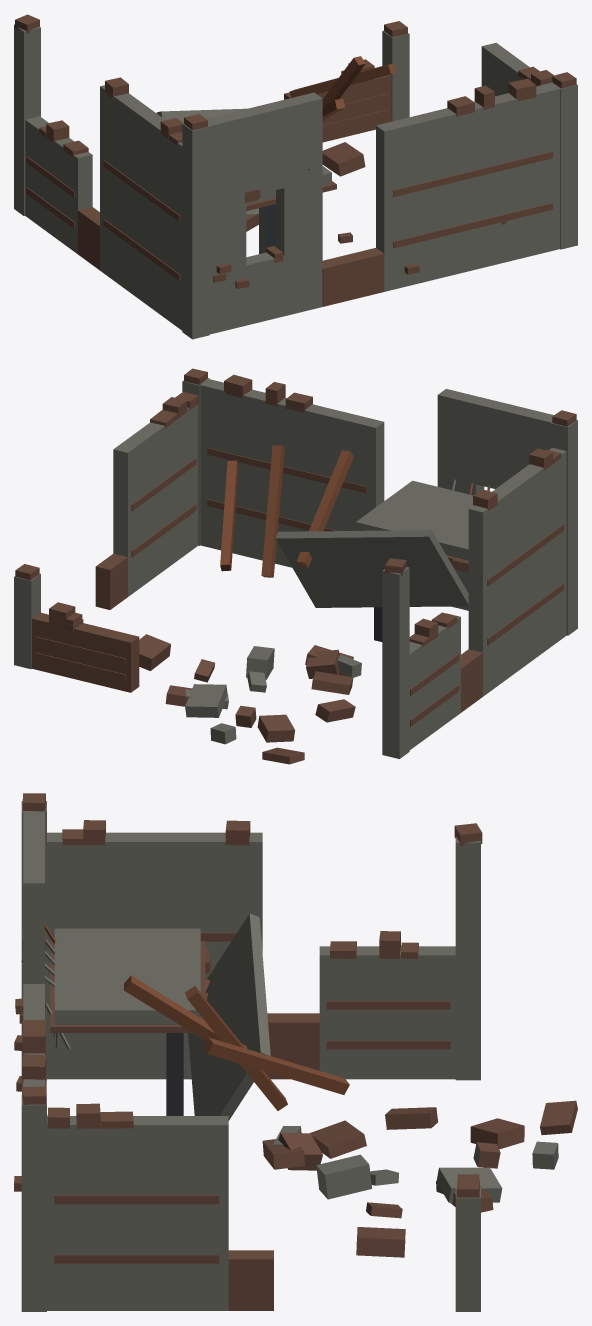
Rendered from ruin_a.glb.
3 views of the same model, one above another, from view 1: azimuth 30°, elevation 25°; view 2: azimuth 150°, elevation 25°; view 3: azimuth 270°, elevation 25° (orthographic). The views are drawn at different scales.
Visible parts, largest first — view 1: ruin_a; view 2: ruin_a; view 3: ruin_a.
Boxes of the visible parts, x1,y1,x2,y2 form: ruin_a: (14,14,577,339); ruin_a: (14,368,577,764); ruin_a: (14,793,577,1311).
Bounding box in the file's own units: 10.09 × 5.45 × 9.9.
